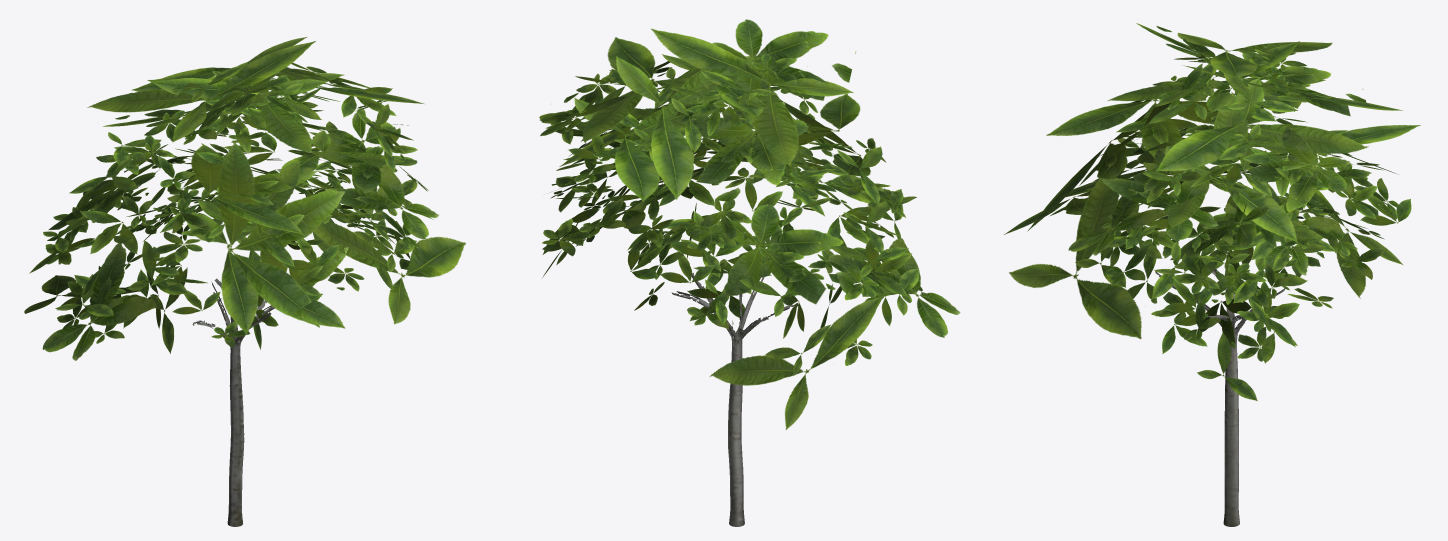
Rendered from cecropia.glb.
The picture shows the model from 3 angles, left to right: view 1: azimuth 30°, elevation 25°; view 2: azimuth 150°, elevation 25°; view 3: azimuth 270°, elevation 25°; orthographic projection. The views are drawn at different scales.
Parts seen in each view (by area): view 1: lod1_leaves, lod0_leaves, lod0; view 2: lod1_leaves, lod0_leaves, lod0; view 3: lod1_leaves, lod0_leaves, lod0.
Boxes of the visible parts, bbox=[...] form: lod1_leaves: bbox=[24, 37, 465, 360]; lod0_leaves: bbox=[29, 62, 433, 353]; lod0: bbox=[192, 278, 274, 526]; lod1_leaves: bbox=[539, 19, 960, 429]; lod0_leaves: bbox=[542, 53, 925, 375]; lod0: bbox=[671, 266, 798, 526]; lod1_leaves: bbox=[1004, 23, 1420, 339]; lod0_leaves: bbox=[1049, 41, 1411, 400]; lod0: bbox=[1155, 269, 1285, 526].
Size of what is drawn, in the model's own units: 4.54 by 4.79 by 3.83.
2 materials, 2 textured.
